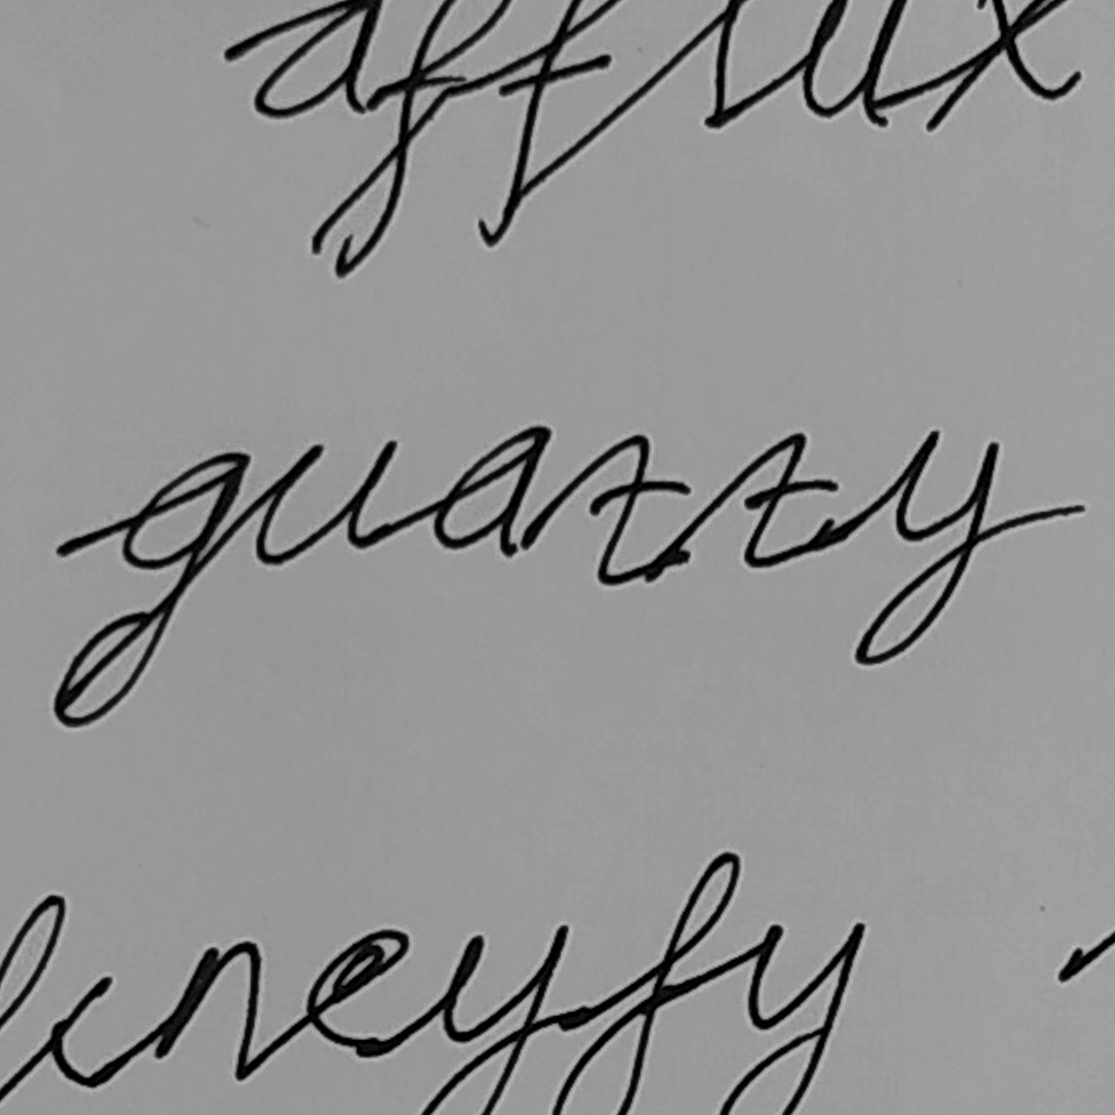a: (429, 422, 555, 562)
q: (47, 447, 250, 729)
u: (252, 435, 400, 569)
y: (850, 424, 1002, 671)
z: (577, 430, 690, 591), (720, 427, 841, 569)
